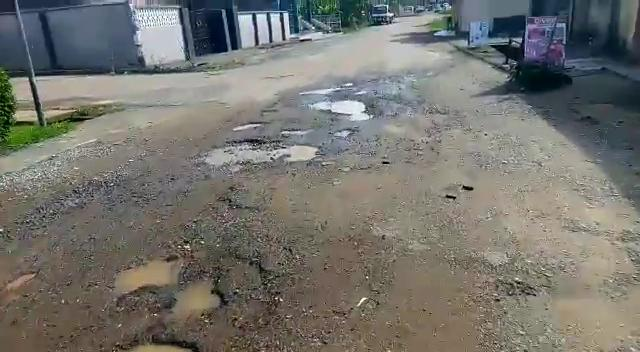pothole: (116, 253, 226, 319), (190, 136, 320, 168), (305, 96, 371, 115), (302, 85, 348, 96), (231, 121, 268, 132), (280, 127, 315, 135)
